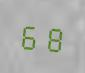eight: (42, 20, 64, 54)
six: (19, 18, 41, 52)
